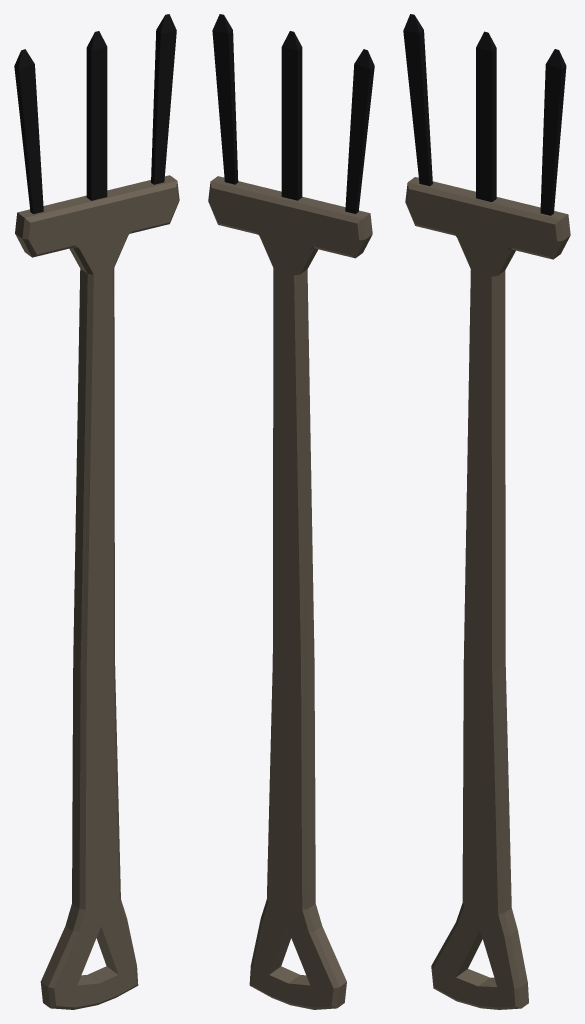
File: fork.glb
3 views of the same model, side by side, from view 1: azimuth 30°, elevation 25°; view 2: azimuth 150°, elevation 25°; view 3: azimuth 330°, elevation 25° (orthographic).
Parts seen in each view (by area): view 1: Fork; view 2: Fork; view 3: Fork.
Part boxes in pixels (x1=…): Fork: x1=14, y1=14, x2=179, y2=1009; Fork: x1=208, y1=14, x2=374, y2=1009; Fork: x1=403, y1=14, x2=570, y2=1009.
Size of the model in its own units: 0.2542 by 1.47 by 0.0328.
1 material, 1 textured.
